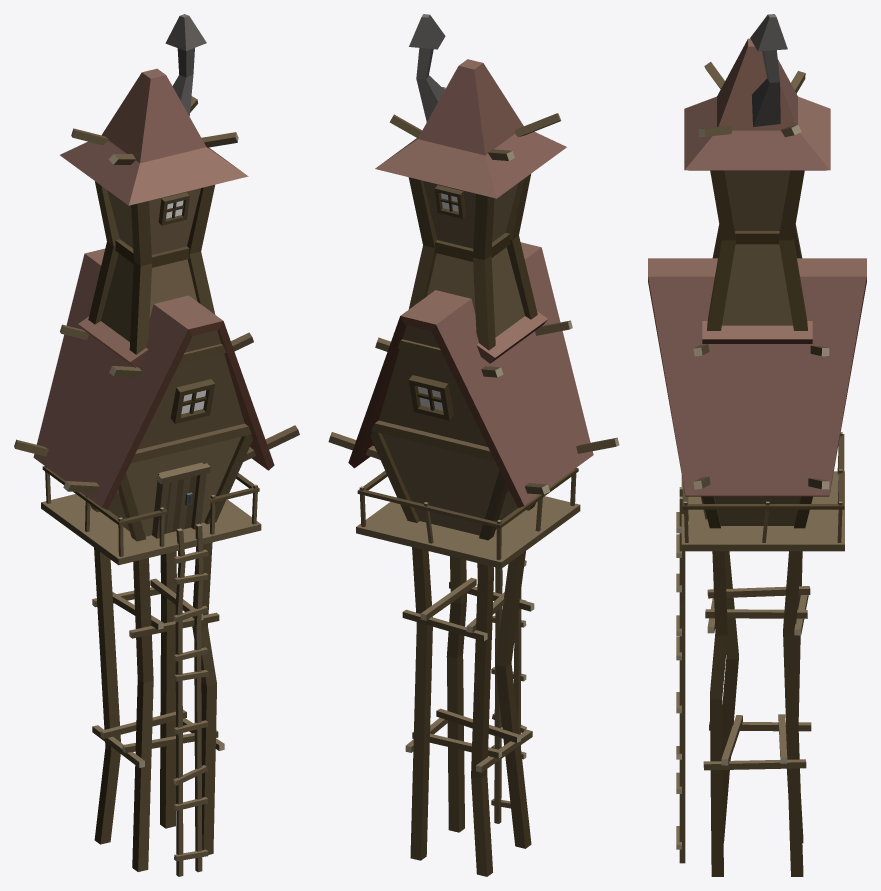
The model's file is WitchesHut.gltf.
3 renders of one model, left to right at view 1: azimuth 30°, elevation 25°; view 2: azimuth 150°, elevation 25°; view 3: azimuth 270°, elevation 25°, orthographic. The views are drawn at different scales.
Parts seen in each view (by area): view 1: SF_Bld_WitchesHut_01; view 2: SF_Bld_WitchesHut_01; view 3: SF_Bld_WitchesHut_01.
Boxes of the visible parts, bbox=[...] form: SF_Bld_WitchesHut_01: bbox=[14, 14, 299, 876]; SF_Bld_WitchesHut_01: bbox=[328, 14, 619, 876]; SF_Bld_WitchesHut_01: bbox=[648, 14, 866, 876].
Size of the model in its own units: 0.1053 by 0.3518 by 0.081.
Materials: 2 (1 with a texture image).
